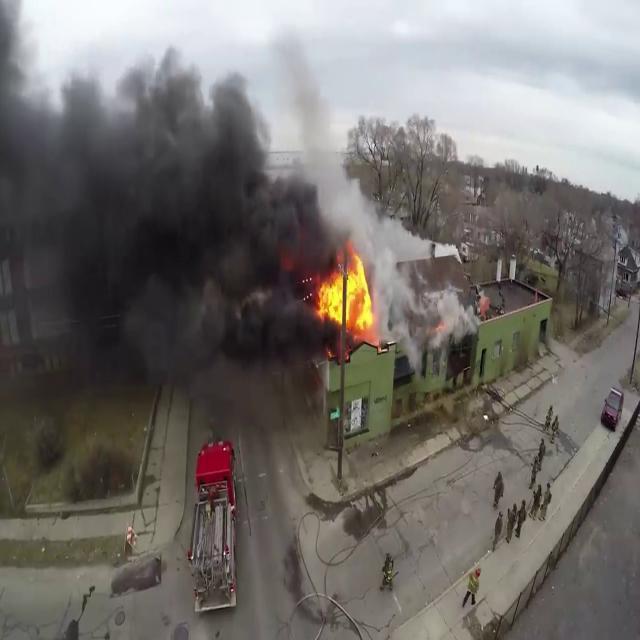Fire: (311, 250, 377, 342)
Smoke: (0, 8, 317, 456), (275, 55, 418, 274), (382, 260, 468, 370)
